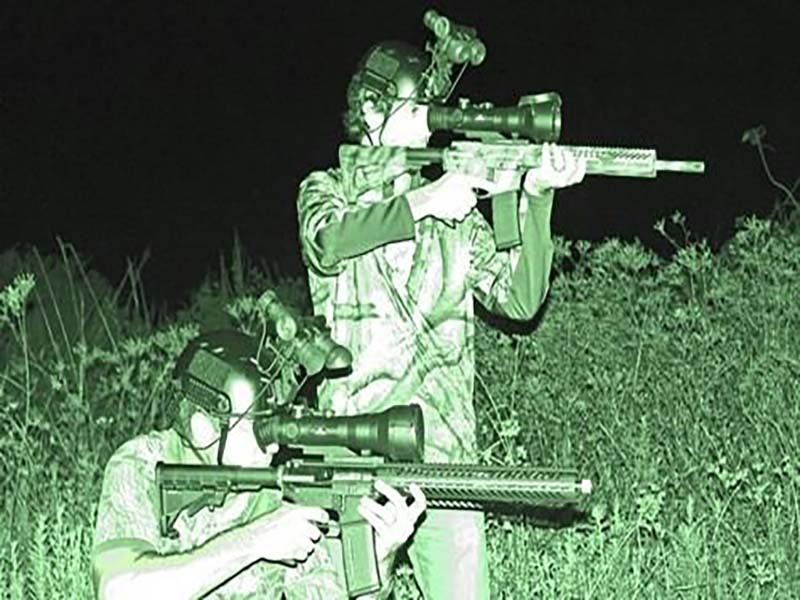cacciatore: (310, 10, 713, 424), (85, 330, 598, 600)
fucile: (151, 406, 602, 598), (329, 93, 710, 233)
